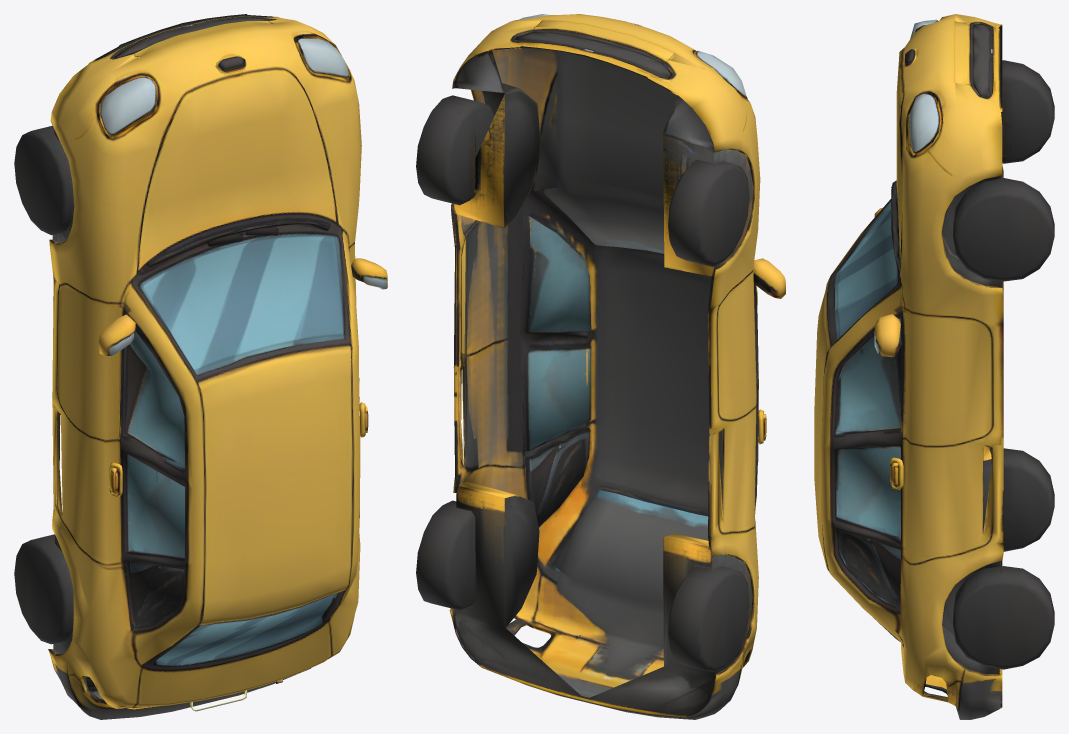
Rendered from selected.fbx.
The picture shows the model from 3 angles, left to right: view 1: azimuth 30°, elevation 25°; view 2: azimuth 150°, elevation 25°; view 3: azimuth 270°, elevation 25°; orthographic projection. The views are drawn at different scales.
Visible parts, largest first — view 1: tripo_node_8c0e47f4-33b3-4a31-aaa3-4799d85f8524; view 2: tripo_node_8c0e47f4-33b3-4a31-aaa3-4799d85f8524; view 3: tripo_node_8c0e47f4-33b3-4a31-aaa3-4799d85f8524.
Boxes of the visible parts, left/top/right/bottom form: tripo_node_8c0e47f4-33b3-4a31-aaa3-4799d85f8524: left=14, top=14, right=387, bottom=719; tripo_node_8c0e47f4-33b3-4a31-aaa3-4799d85f8524: left=416, top=14, right=785, bottom=719; tripo_node_8c0e47f4-33b3-4a31-aaa3-4799d85f8524: left=814, top=14, right=1054, bottom=719.
Size of the model in its own units: 44.73 by 99.8 by 34.18.
Materials: 1 (1 with a texture image).
